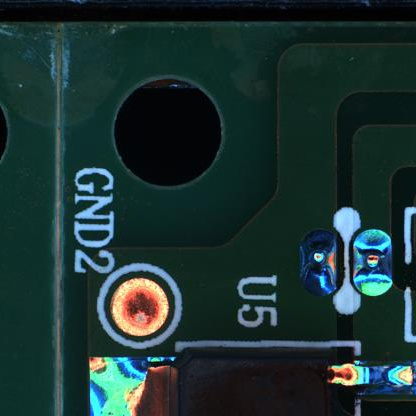spot: (100, 272, 178, 340), (347, 222, 397, 307), (284, 230, 345, 298)
